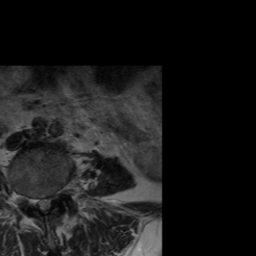CCS_stenosis: (41, 189, 48, 220)
LFS_stenosis: (54, 186, 60, 204)
LLS_severe_stenosis: (48, 189, 54, 213)
RFS_normal: (27, 190, 35, 213)
RLS_normal: (35, 190, 42, 214)
